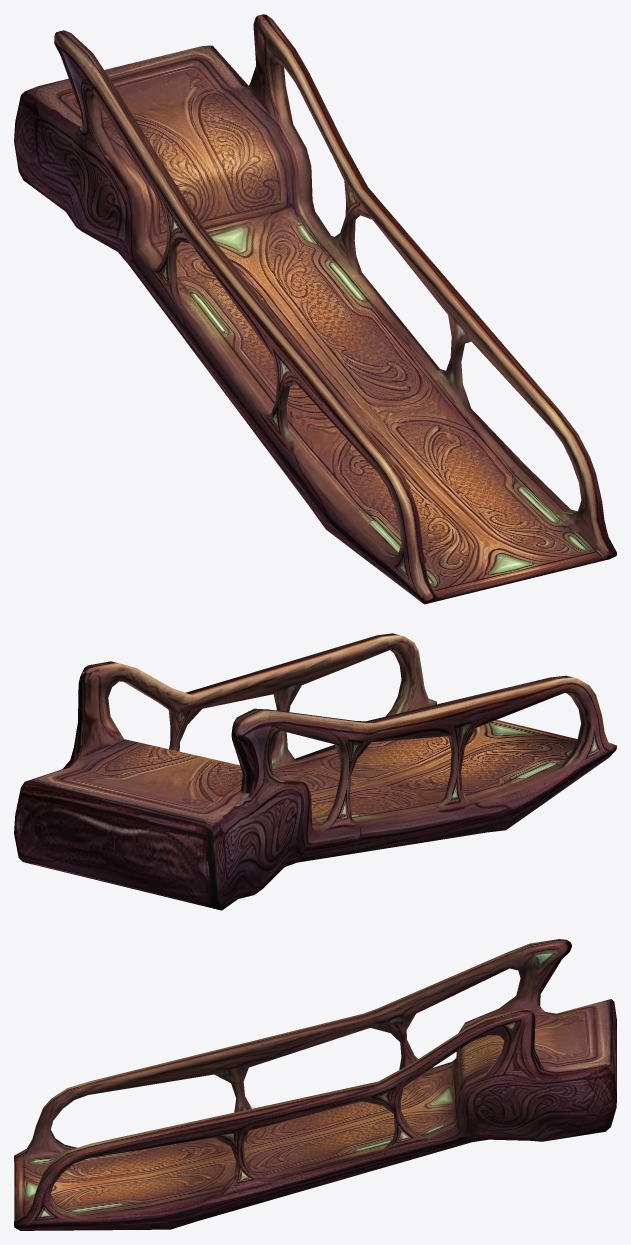
Rendered from arkRamp01.glb.
3 renders of one model, top to bottom at view 1: azimuth 30°, elevation 25°; view 2: azimuth 150°, elevation 25°; view 3: azimuth 270°, elevation 25°, orthographic. The views are drawn at different scales.
Parts seen in each view (by area): view 1: ramp01; view 2: ramp01; view 3: ramp01.
Boxes of the visible parts, x1,y1,x2,y2 form: ramp01: (14, 14, 616, 604); ramp01: (14, 633, 616, 910); ramp01: (14, 939, 616, 1230).
Size of what is drawn, in the model's own units: 0.4749 by 0.6808 by 1.65.
Materials: 1 (1 with a texture image).
